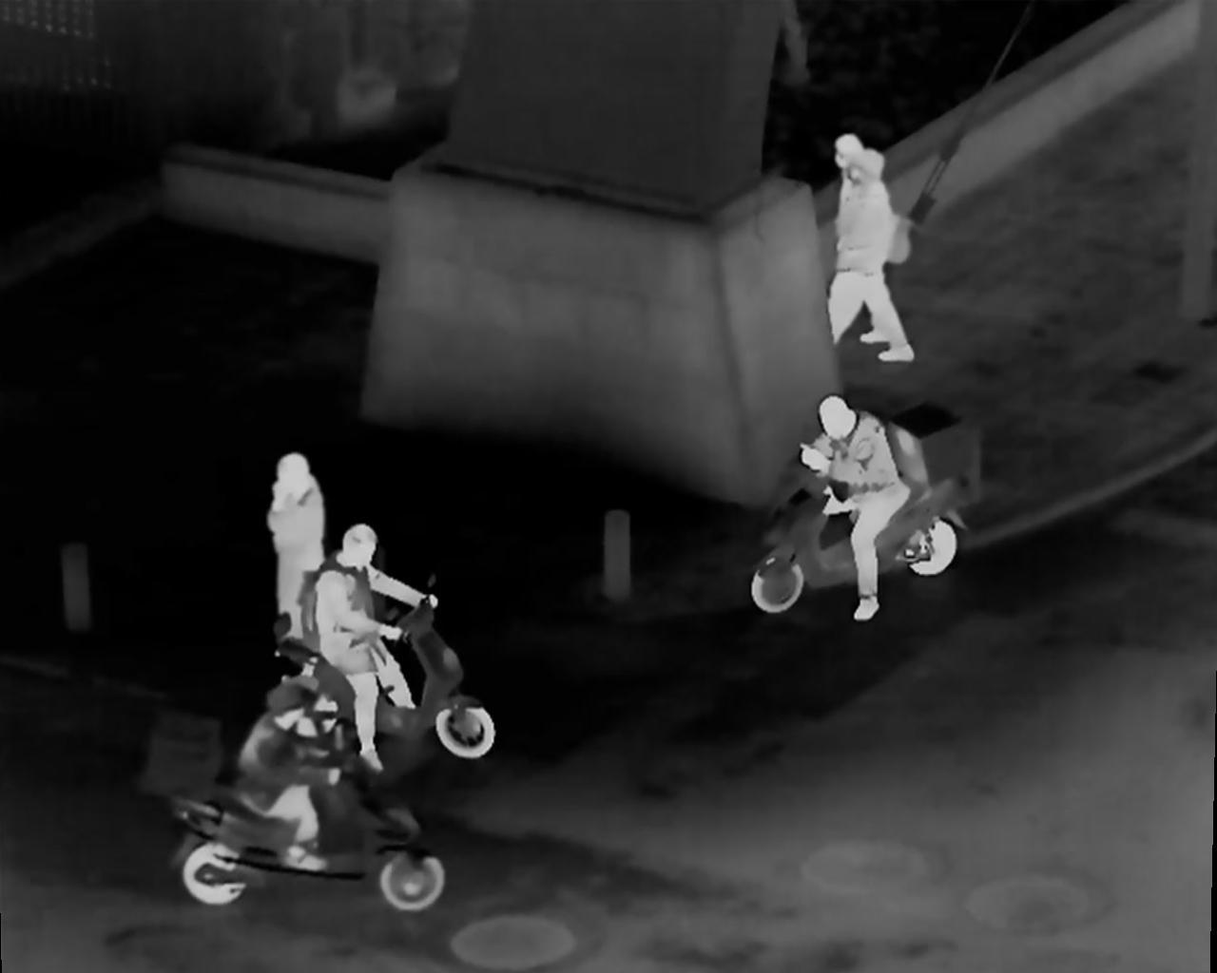person: (321, 515, 443, 744), (805, 136, 909, 343), (814, 386, 908, 609), (828, 150, 914, 361), (260, 414, 334, 641), (256, 676, 323, 866)
